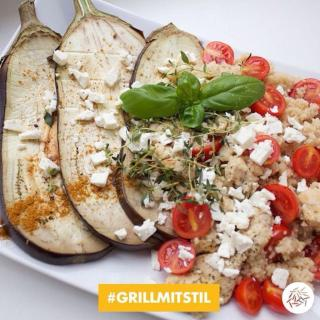tomato: (262, 183, 300, 227), (172, 198, 213, 237), (157, 238, 195, 274), (233, 277, 264, 316), (252, 82, 286, 114), (290, 146, 320, 179), (290, 76, 319, 108), (263, 279, 290, 311), (249, 134, 278, 163), (192, 136, 225, 159), (202, 41, 234, 64), (244, 55, 272, 79)
